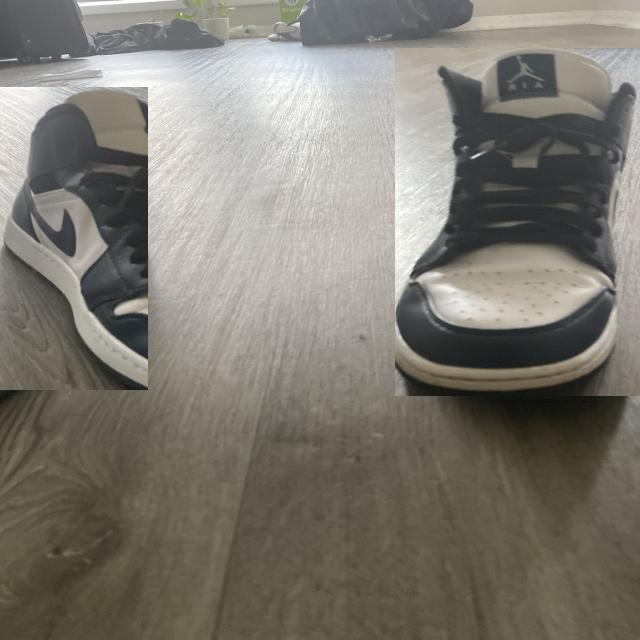shoe: (395, 48, 640, 396), (0, 87, 148, 390)
